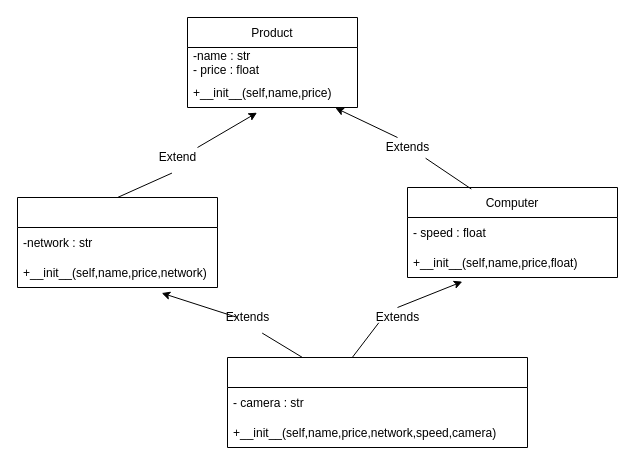
The diagram is 635 pixels wide and 465 high, and some of its shapes have lost their labels. The box of each missing label's shape, as (x1, y1, x2, y2) in pixels:
Phone: (16, 196, 218, 288)
Smartphone: (226, 356, 528, 448)
